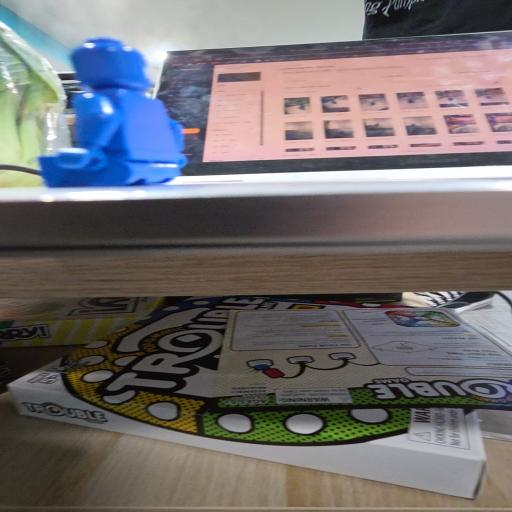Blue: (39, 38, 186, 187)
